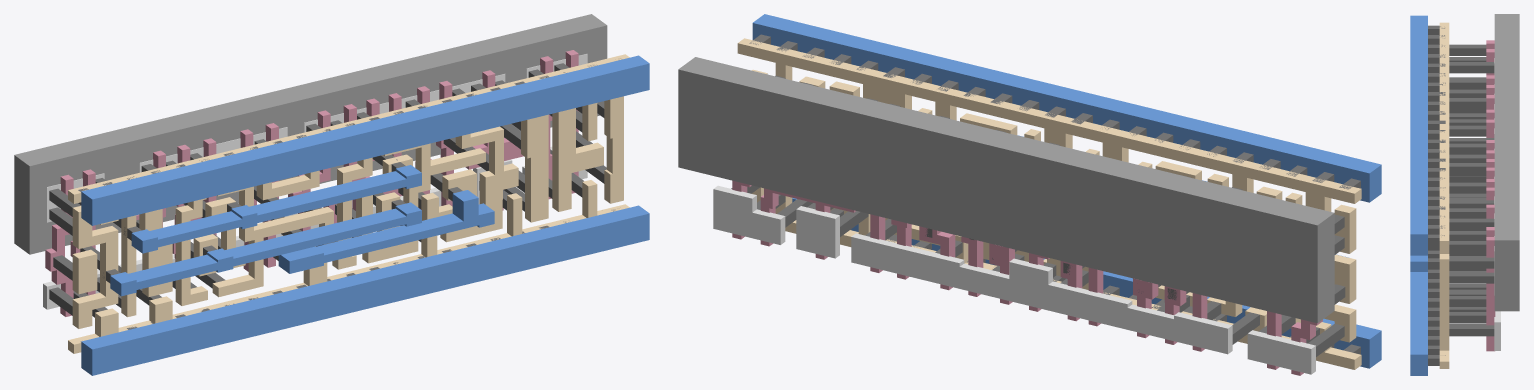
Rendered from sky130_fd_sc_hd__dfrbp_1.gds.gltf.
The picture shows the model from 3 angles, left to right: view 1: azimuth 30°, elevation 25°; view 2: azimuth 150°, elevation 25°; view 3: azimuth 270°, elevation 25°; orthographic projection. The views are drawn at different scales.
Parts seen in each view (by area): view 1: sky130_fd_sc_hd__dfrbp_1_met1, sky130_fd_sc_hd__dfrbp_1_li1, sky130_fd_sc_hd__dfrbp_1_nwell, sky130_fd_sc_hd__dfrbp_1_poly, sky130_fd_sc_hd__dfrbp_1_licon, sky130_fd_sc_hd__dfrbp_1_diff, sky130_fd_sc_hd__dfrbp_1_mcon; view 2: sky130_fd_sc_hd__dfrbp_1_nwell, sky130_fd_sc_hd__dfrbp_1_li1, sky130_fd_sc_hd__dfrbp_1_diff, sky130_fd_sc_hd__dfrbp_1_met1, sky130_fd_sc_hd__dfrbp_1_poly, sky130_fd_sc_hd__dfrbp_1_licon, sky130_fd_sc_hd__dfrbp_1_mcon; view 3: sky130_fd_sc_hd__dfrbp_1_licon, sky130_fd_sc_hd__dfrbp_1_nwell, sky130_fd_sc_hd__dfrbp_1_met1, sky130_fd_sc_hd__dfrbp_1_mcon, sky130_fd_sc_hd__dfrbp_1_li1, sky130_fd_sc_hd__dfrbp_1_poly, sky130_fd_sc_hd__dfrbp_1_diff.
Boxes of the visible parts, x1,y1,x2,y2 form: sky130_fd_sc_hd__dfrbp_1_met1: [81, 55, 649, 375]; sky130_fd_sc_hd__dfrbp_1_li1: [68, 54, 629, 353]; sky130_fd_sc_hd__dfrbp_1_nwell: [14, 14, 607, 254]; sky130_fd_sc_hd__dfrbp_1_poly: [45, 50, 578, 316]; sky130_fd_sc_hd__dfrbp_1_licon: [49, 63, 606, 317]; sky130_fd_sc_hd__dfrbp_1_diff: [43, 54, 587, 309]; sky130_fd_sc_hd__dfrbp_1_mcon: [78, 58, 620, 341]; sky130_fd_sc_hd__dfrbp_1_nwell: [678, 57, 1334, 323]; sky130_fd_sc_hd__dfrbp_1_li1: [737, 38, 1361, 369]; sky130_fd_sc_hd__dfrbp_1_diff: [713, 185, 1315, 374]; sky130_fd_sc_hd__dfrbp_1_met1: [752, 14, 1381, 368]; sky130_fd_sc_hd__dfrbp_1_poly: [732, 180, 1322, 375]; sky130_fd_sc_hd__dfrbp_1_licon: [731, 75, 1345, 356]; sky130_fd_sc_hd__dfrbp_1_mcon: [749, 34, 1360, 354]; sky130_fd_sc_hd__dfrbp_1_licon: [1449, 44, 1494, 336]; sky130_fd_sc_hd__dfrbp_1_nwell: [1494, 14, 1519, 311]; sky130_fd_sc_hd__dfrbp_1_met1: [1410, 15, 1427, 375]; sky130_fd_sc_hd__dfrbp_1_mcon: [1428, 25, 1445, 365]; sky130_fd_sc_hd__dfrbp_1_li1: [1439, 22, 1449, 368]; sky130_fd_sc_hd__dfrbp_1_poly: [1486, 40, 1495, 351]; sky130_fd_sc_hd__dfrbp_1_diff: [1494, 58, 1500, 350].
Bounding box in the file's own units: 10.96 × 3.2 × 2.24.
